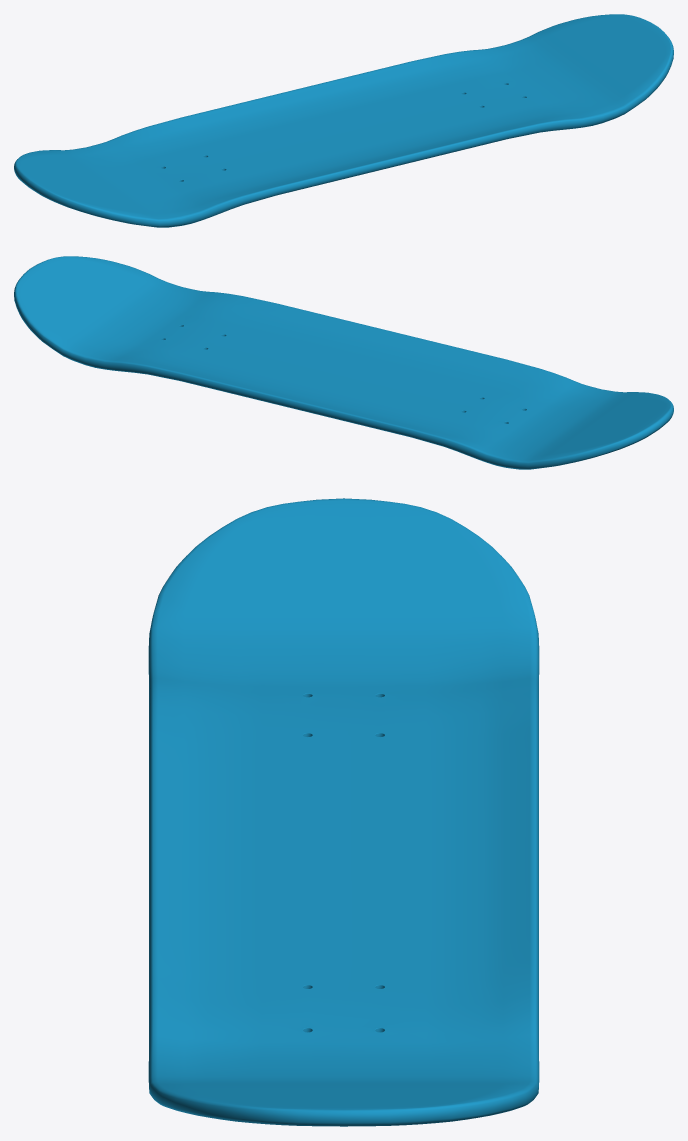
The model's file is me_board01_013.fbx.
3 views of the same model, one above another, from view 1: azimuth 30°, elevation 25°; view 2: azimuth 150°, elevation 25°; view 3: azimuth 270°, elevation 25° (orthographic). The views are drawn at different scales.
Visible parts, largest first — view 1: me_board01_013; view 2: me_board01_013; view 3: me_board01_013.
Boxes of the visible parts, x1=… form: me_board01_013: x1=14, y1=14, x2=673, y2=227; me_board01_013: x1=14, y1=256, x2=673, y2=469; me_board01_013: x1=148, y1=498, x2=539, y2=1126.
Bounding box in the file's own units: 1647 × 94.46 × 441.
